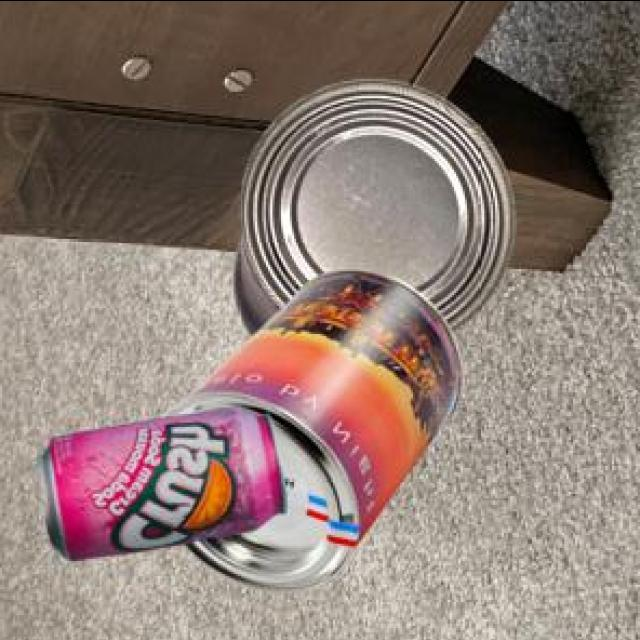logam: (161, 265, 459, 589), (230, 75, 511, 332), (36, 403, 282, 557)
